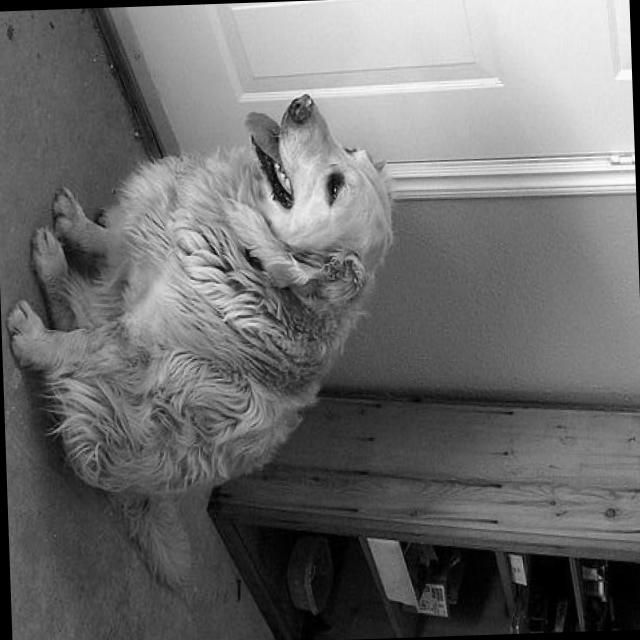sitting: (0, 80, 412, 597)
